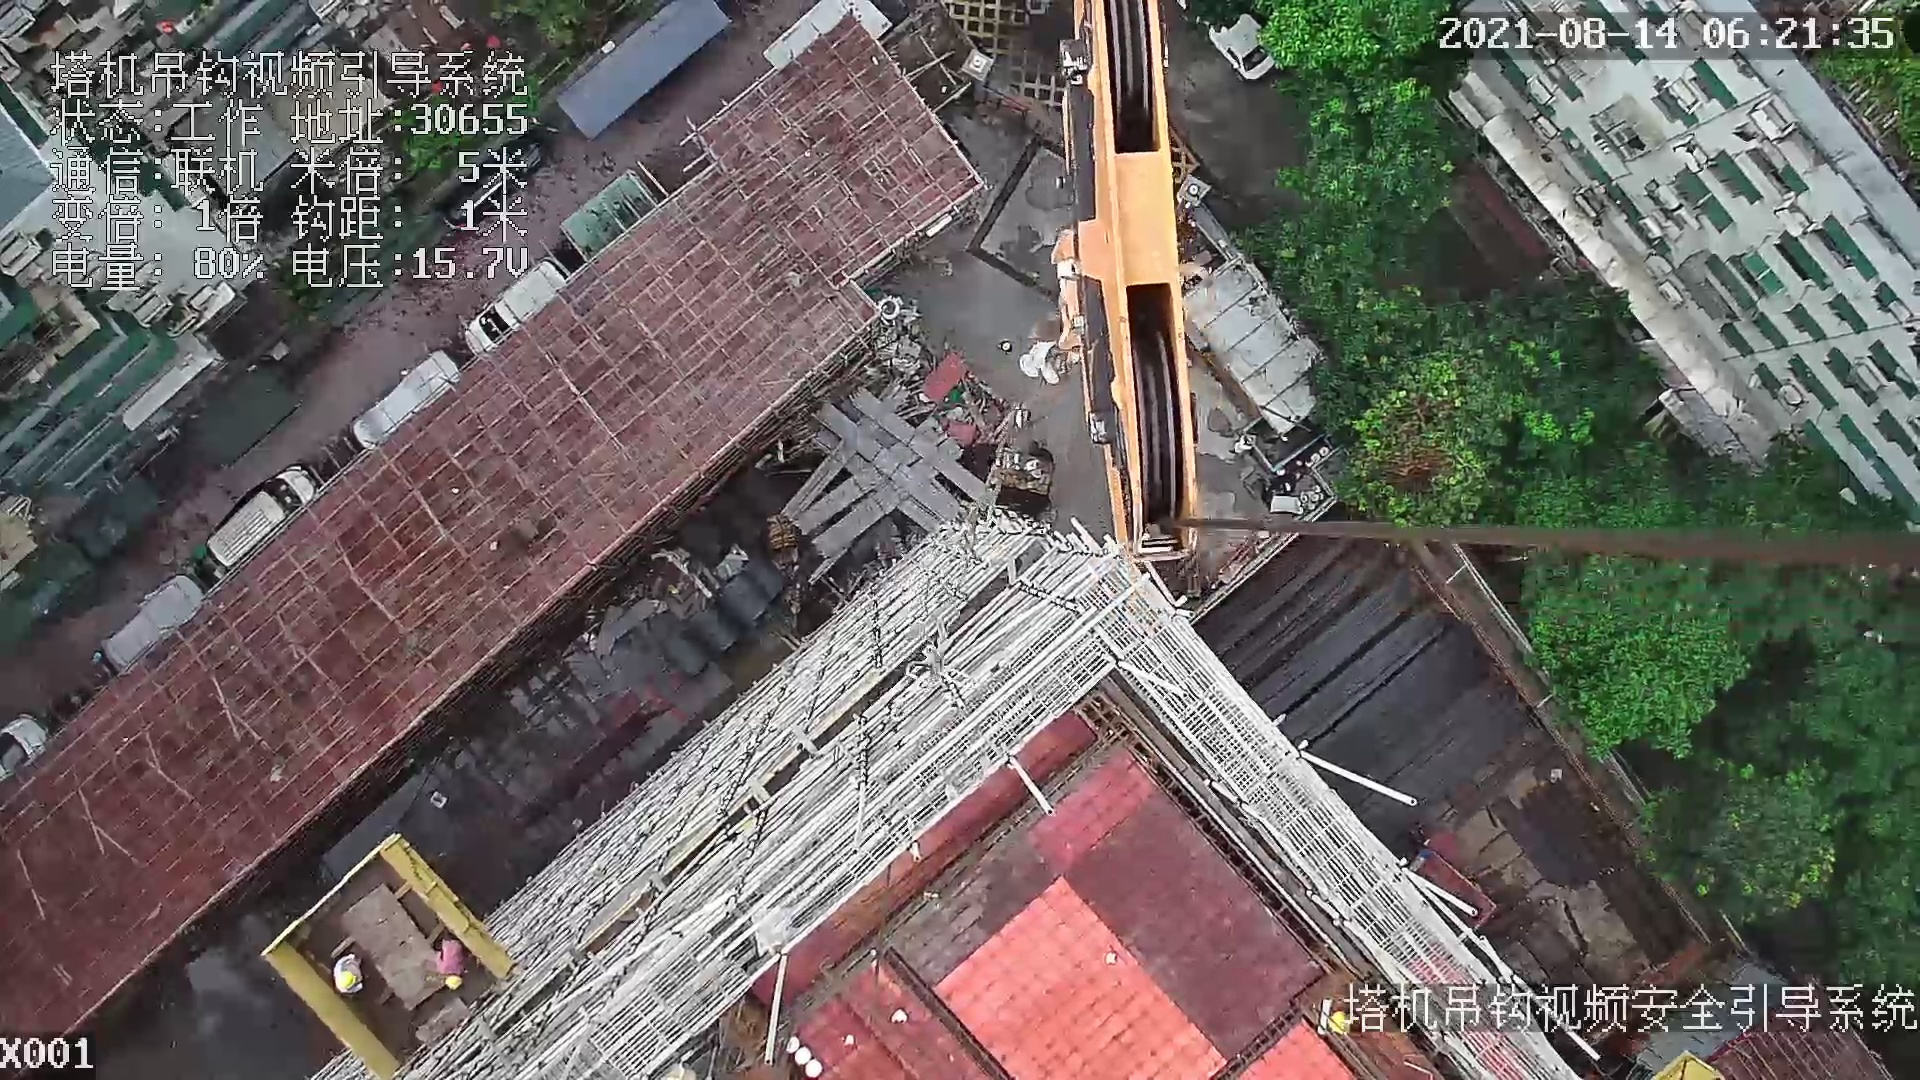helmet: (445, 975, 464, 991), (337, 972, 358, 989)
hook: (1027, 1, 1201, 555)
person: (438, 933, 469, 994), (328, 951, 367, 999)
